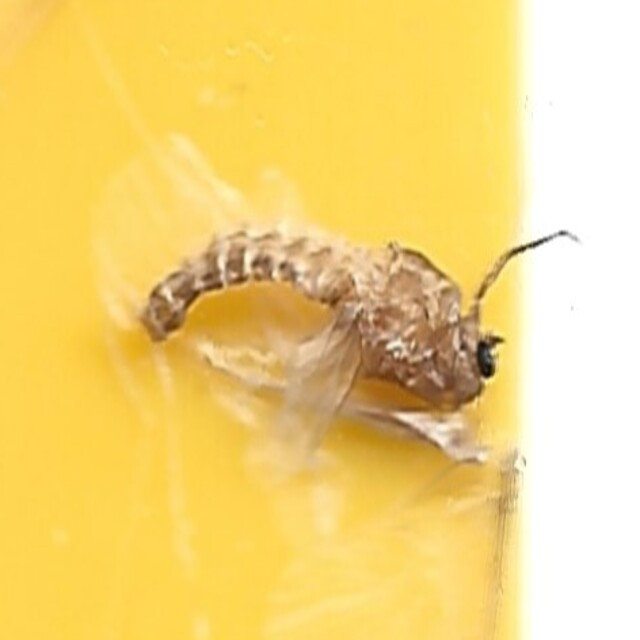Ephemeroptera: (136, 211, 504, 429)
